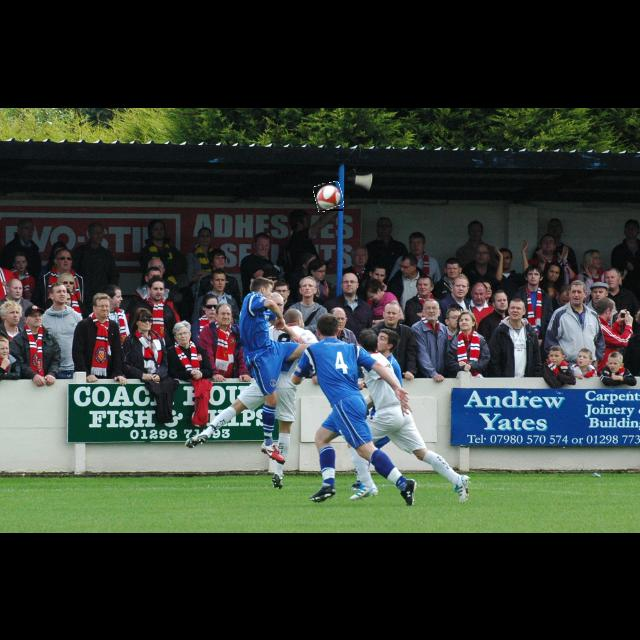Football: (315, 183, 343, 211)
